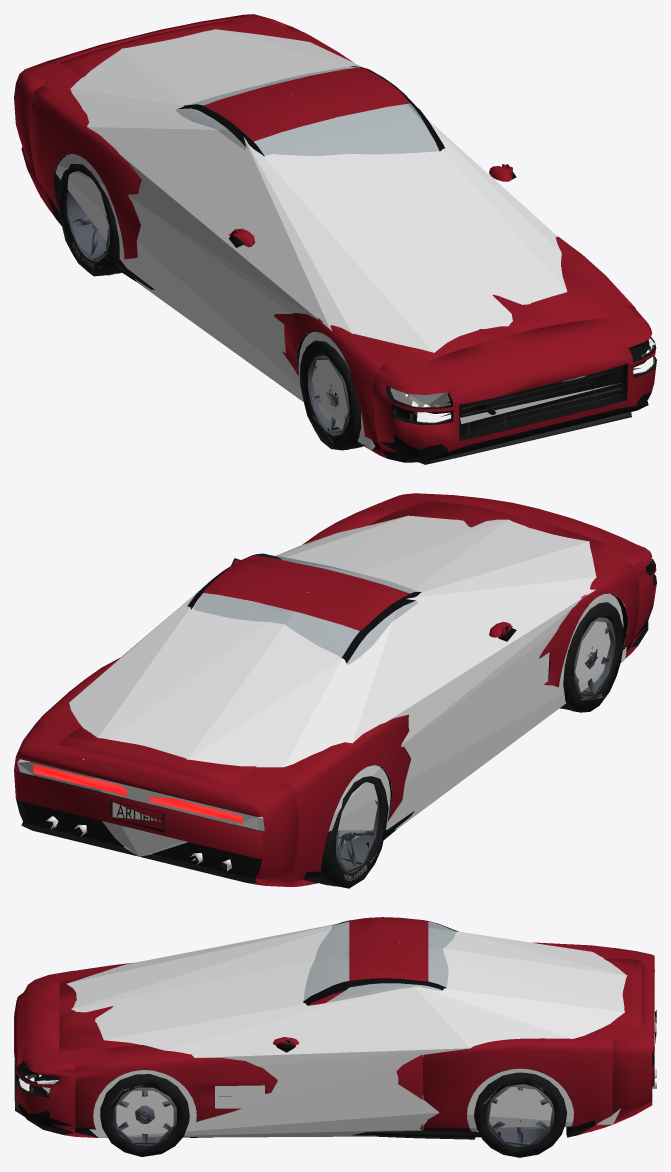
The model's file is arden_bruiser_lod2.glb.
The picture shows the model from 3 angles, top to bottom: view 1: azimuth 30°, elevation 25°; view 2: azimuth 150°, elevation 25°; view 3: azimuth 270°, elevation 25°; orthographic projection. The views are drawn at different scales.
Visible parts, largest first — view 1: col_body, body, glass, wheel_RR, wheel_FR, trim, lights_front; view 2: col_body, body, glass, wheel_RR, wheel_FR, lights_rear, plate_rear; view 3: col_body, body, wheel_RL, wheel_FL, glass, trim.
Part boxes in pixels (x1,y1,x2,y2): col_body: [45, 23, 655, 450]; body: [14, 14, 656, 462]; glass: [175, 67, 438, 155]; wheel_RR: [57, 164, 121, 276]; wheel_FR: [300, 340, 363, 450]; trim: [103, 164, 631, 464]; lights_front: [394, 339, 654, 422]; col_body: [17, 515, 627, 856]; body: [14, 493, 656, 886]; glass: [187, 554, 418, 664]; wheel_RR: [319, 776, 388, 888]; wheel_FR: [559, 602, 623, 712]; lights_rear: [33, 764, 242, 824]; plate_rear: [110, 801, 164, 832]; col_body: [36, 921, 654, 1137]; body: [14, 917, 654, 1139]; wheel_RL: [474, 1072, 566, 1157]; wheel_FL: [100, 1074, 189, 1156]; glass: [303, 921, 456, 1002]; trim: [14, 1038, 500, 1137].
Bounding box in the file's own units: 1.92 × 1.36 × 4.88.
12 materials, 3 textured.
